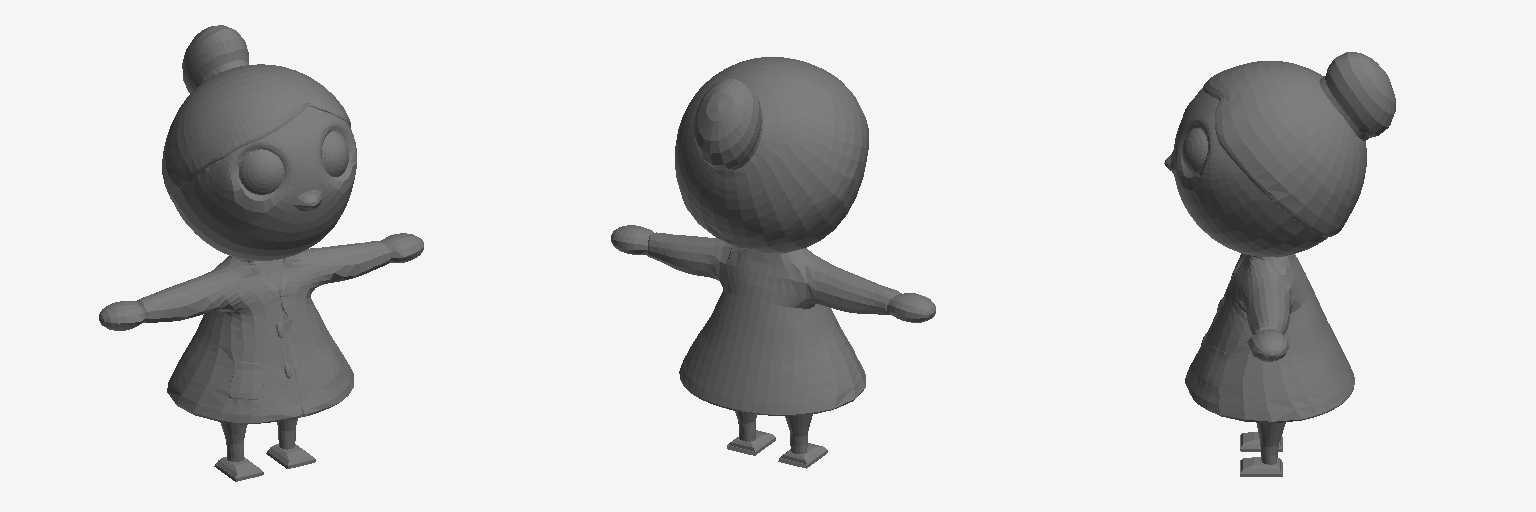
The model's file is Physicist.obj.
The picture shows the model from 3 angles: view 1: azimuth 30°, elevation 25°; view 2: azimuth 150°, elevation 25°; view 3: azimuth 270°, elevation 25°; orthographic projection.
Parts seen in each view (by area): view 1: LowPoly; view 2: LowPoly; view 3: LowPoly.
Part boxes in pixels (x1,y1,x2,y2): LowPoly: (99, 25, 423, 481); LowPoly: (611, 57, 935, 468); LowPoly: (1164, 52, 1395, 476).
Bounding box in the file's own units: 192 × 231 × 120.